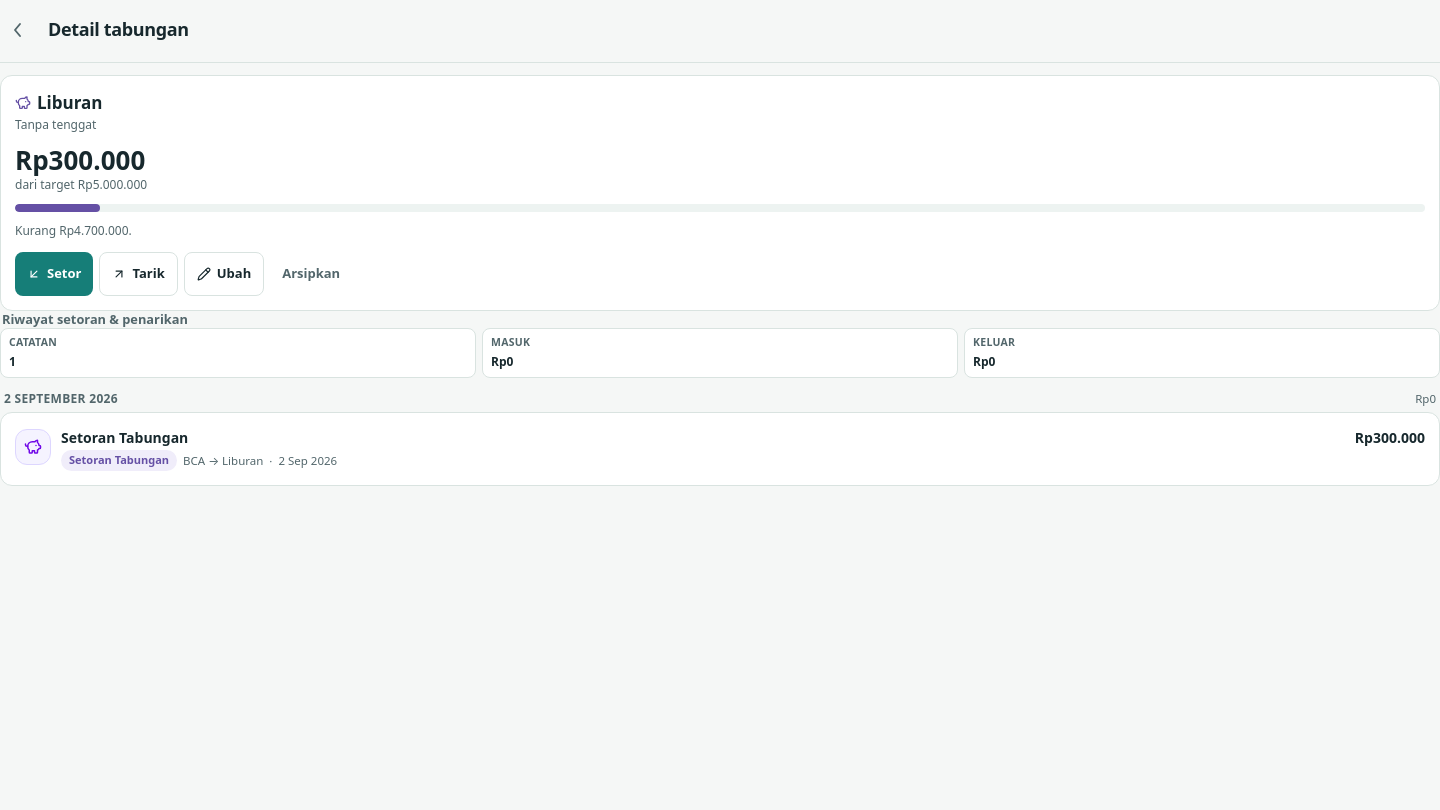
Scenario: Tabungan (savings) Phase 2D UX › refuses to withdraw more than the goal holds, leaving the ledger untouched
Click the button "Tarik": point(139, 274) [99,252,178,296]
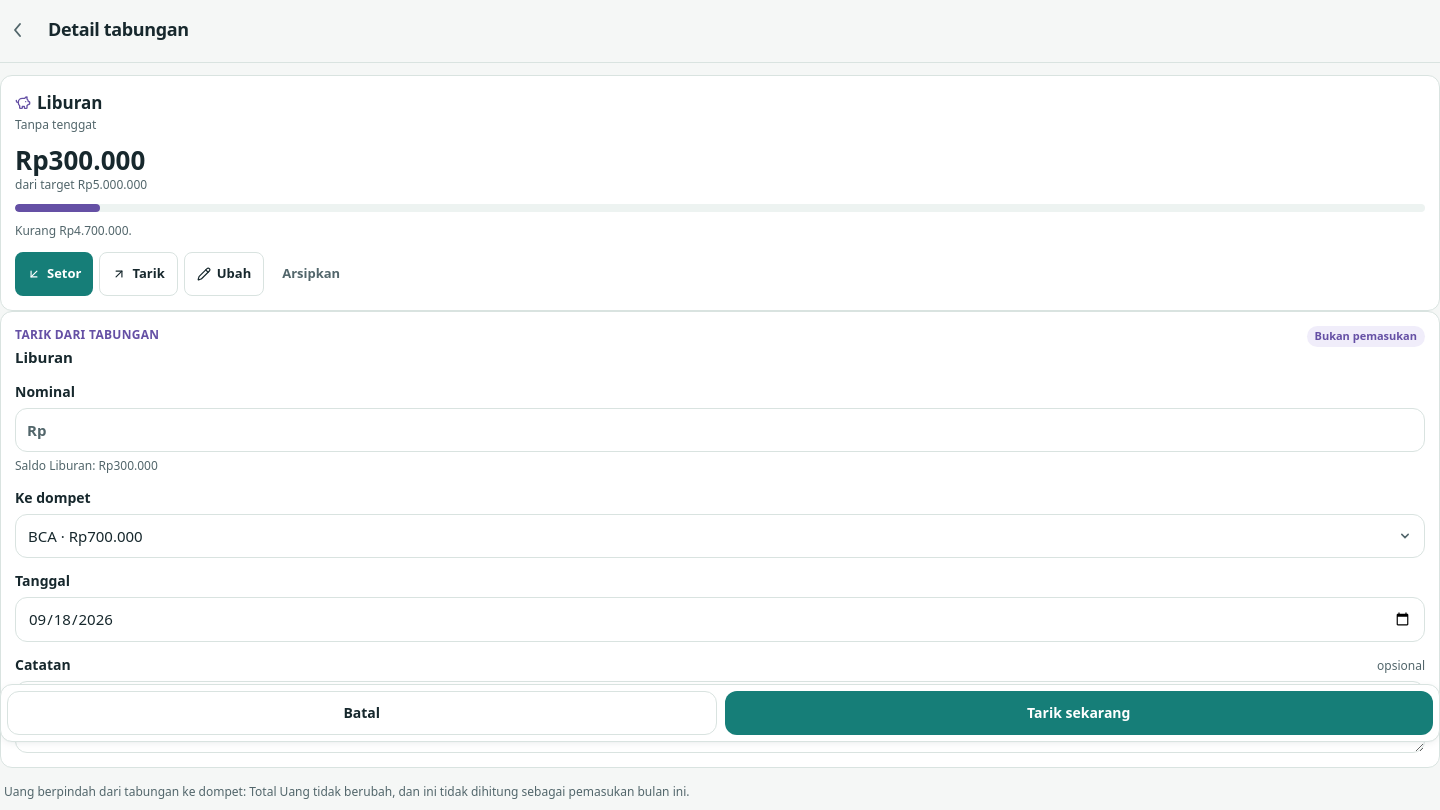
In the field labelled "Nominal": point(720, 430) [15,408,1425,452], type "500.000"
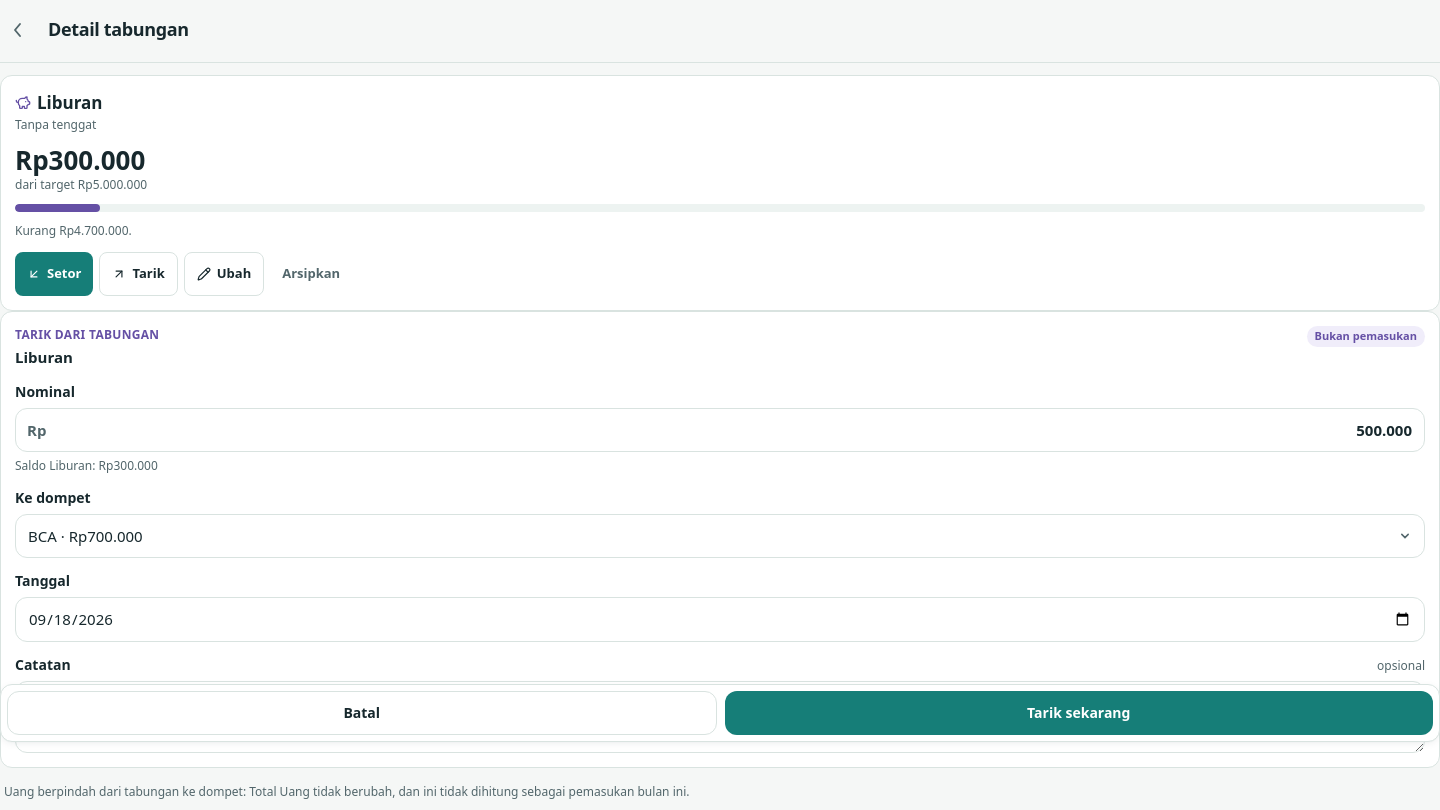
Click the button "Tarik sekarang": point(1079, 713) [724,691,1433,735]
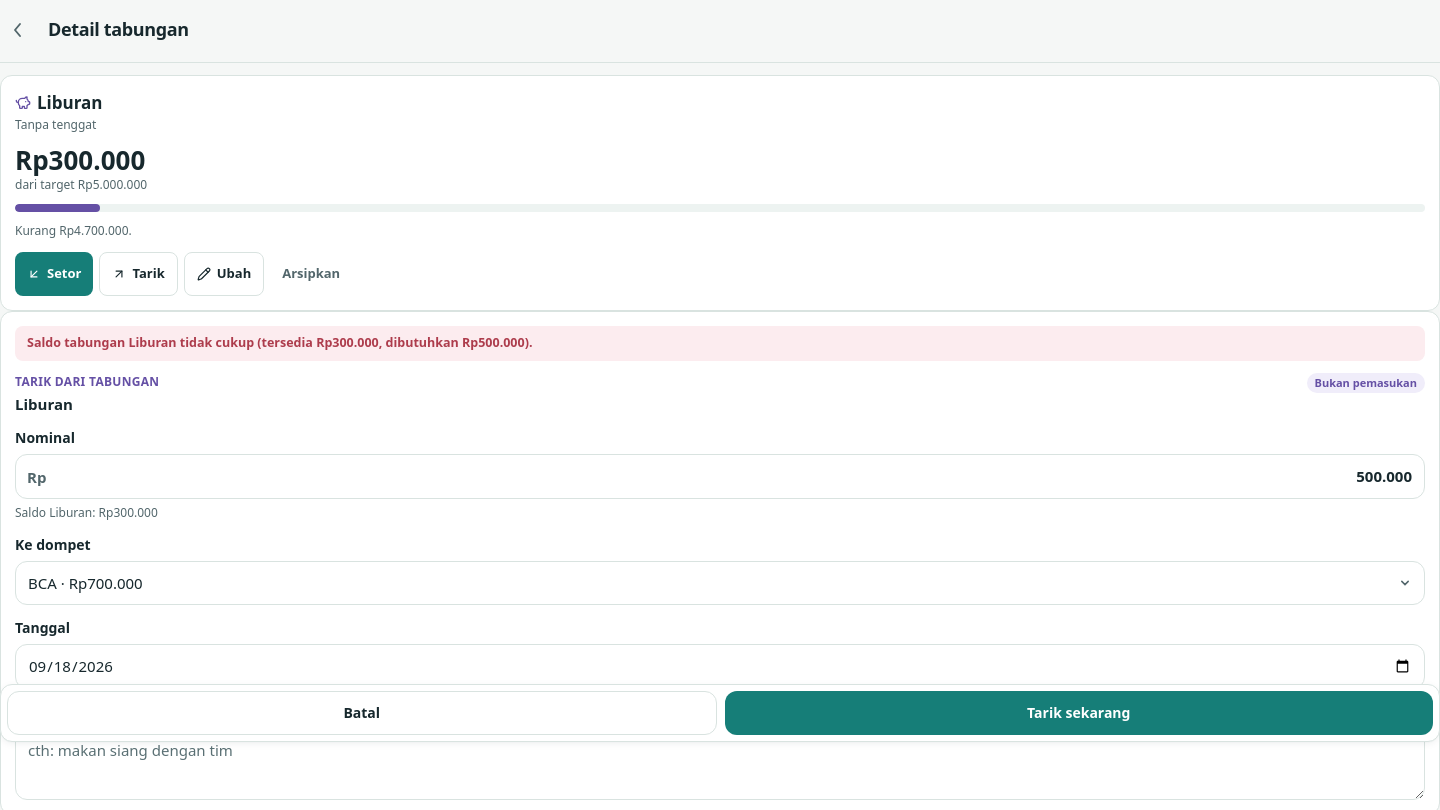
Expected: the message "Saldo tabungan Liburan tidak cukup (tersedia Rp300.000, dibutuhkan Rp500.000)." is shown, [15,326,1425,361]
